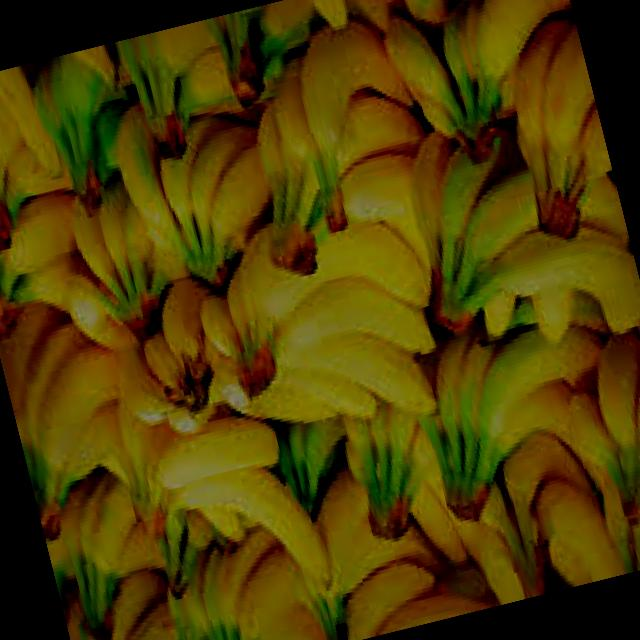Banana: (184, 194, 461, 463), (391, 96, 640, 367), (216, 5, 447, 286), (398, 296, 636, 525), (114, 98, 286, 310), (0, 317, 155, 540), (491, 17, 627, 248), (48, 176, 184, 364), (28, 42, 148, 220), (120, 20, 248, 162), (0, 63, 69, 260)
